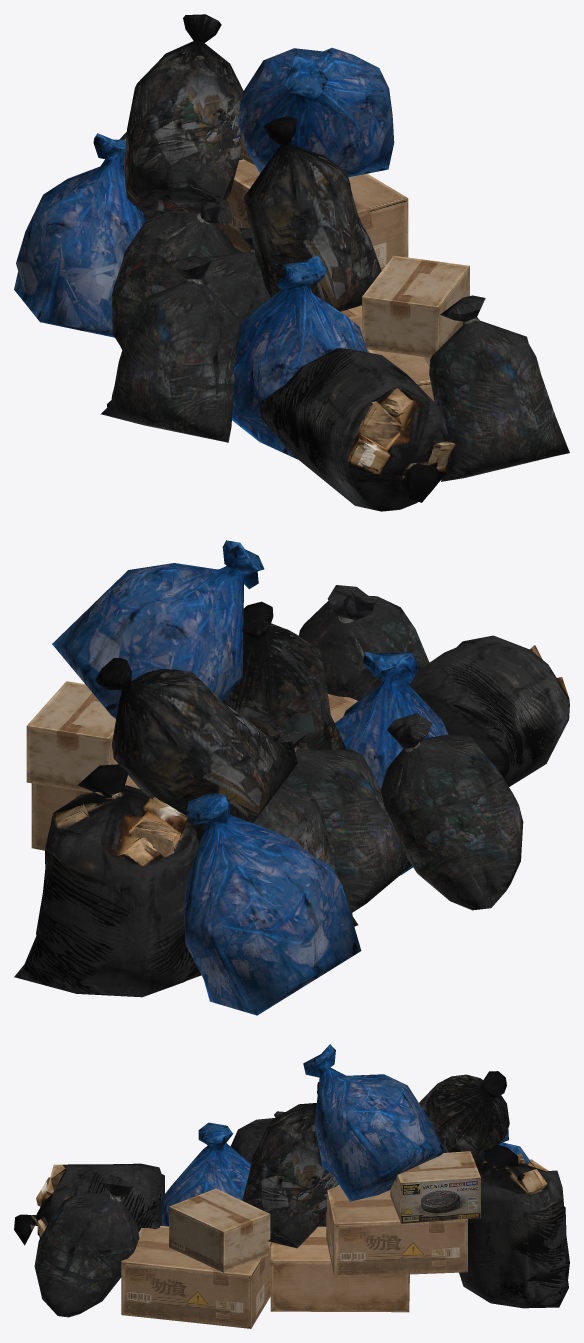
The model's file is CP_Garbage_05.fbx.
3 renders of one model, top to bottom at view 1: azimuth 30°, elevation 25°; view 2: azimuth 150°, elevation 25°; view 3: azimuth 270°, elevation 25°, orthographic. The views are drawn at different scales.
Visible parts, largest first — view 1: CP_Trash_Bag_05_LOD0; view 2: CP_Trash_Bag_05_LOD0; view 3: CP_Trash_Bag_05_LOD0.
Boxes of the visible parts, x1,y1,x2,y2 form: CP_Trash_Bag_05_LOD0: (14, 14, 569, 511); CP_Trash_Bag_05_LOD0: (14, 540, 569, 1015); CP_Trash_Bag_05_LOD0: (14, 1044, 569, 1328).
Size of what is drawn, in the model's own units: 175 by 153 by 308.
